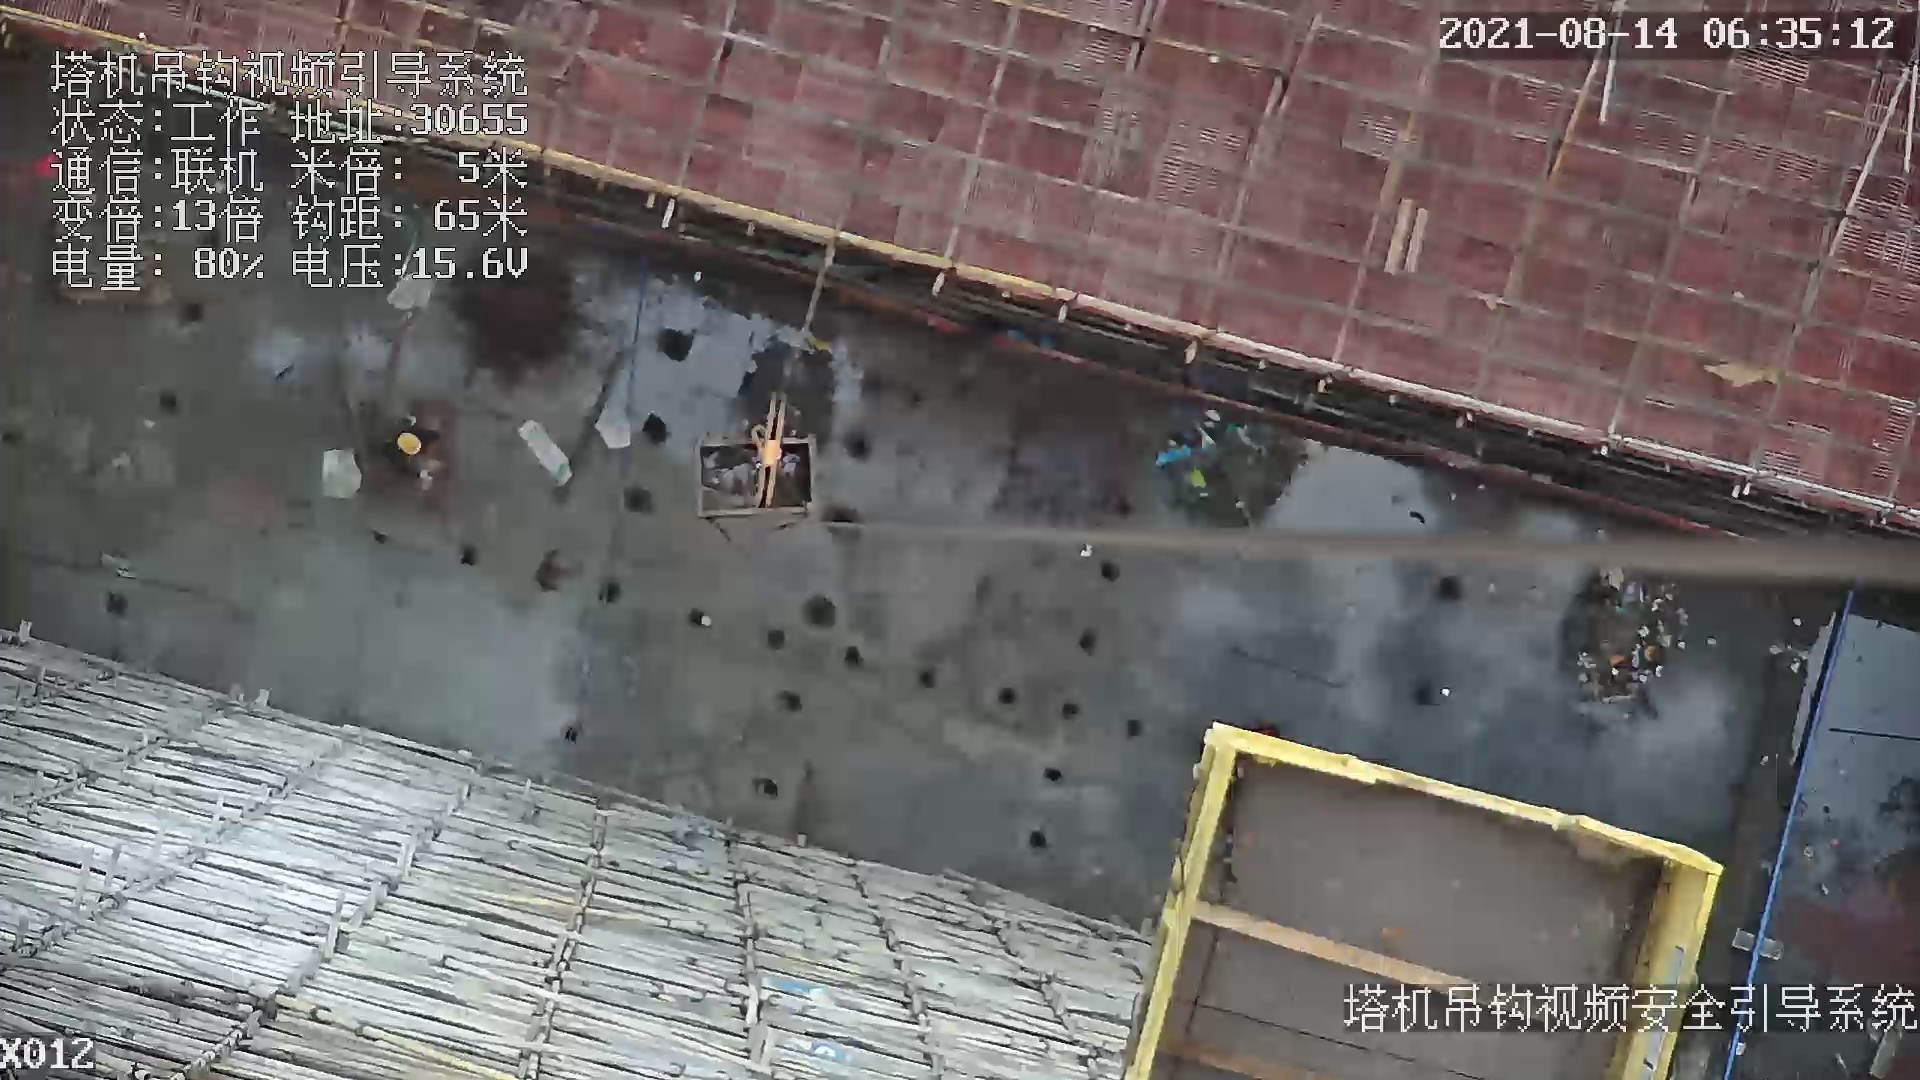helmet: (395, 429, 424, 460)
hook: (745, 389, 797, 512)
hopper: (696, 435, 840, 533)
person: (378, 418, 451, 492)
